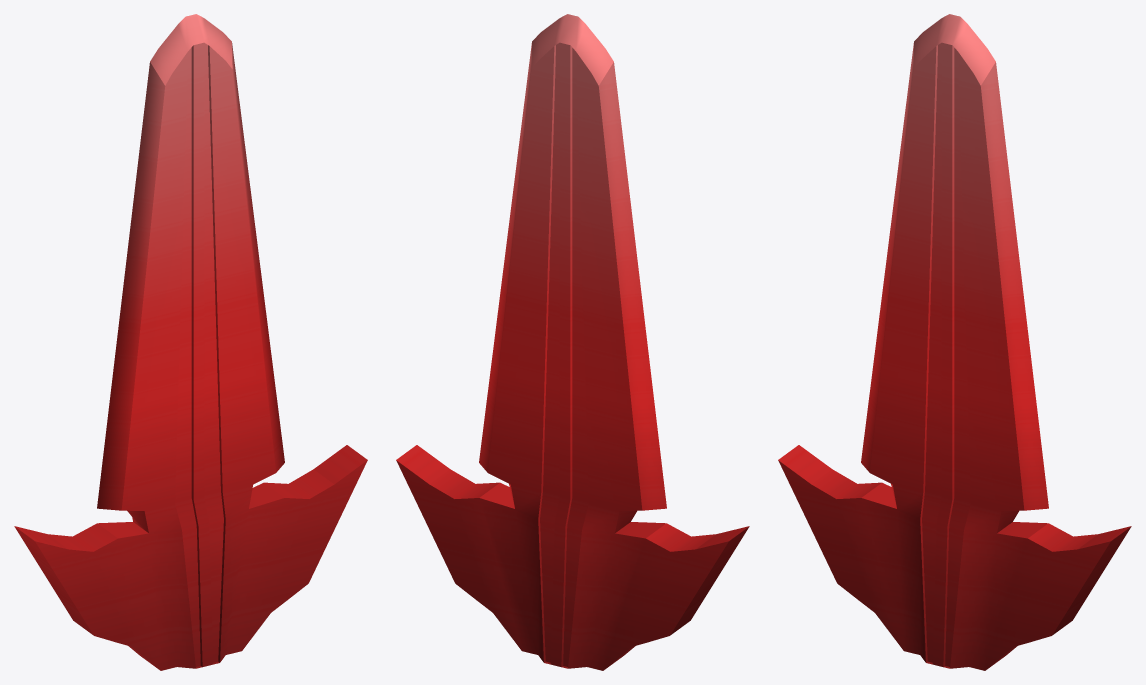
File: Blade_Five.fbx
3 views of the same model, side by side, from view 1: azimuth 30°, elevation 25°; view 2: azimuth 150°, elevation 25°; view 3: azimuth 330°, elevation 25° (orthographic).
Visible parts, largest first — view 1: Blade_Five; view 2: Blade_Five; view 3: Blade_Five.
Boxes of the visible parts, bbox=[...] form: Blade_Five: bbox=[14, 14, 367, 670]; Blade_Five: bbox=[396, 14, 749, 670]; Blade_Five: bbox=[778, 14, 1131, 670].
Bounding box in the file's own units: 5.65 × 10.34 × 1.
